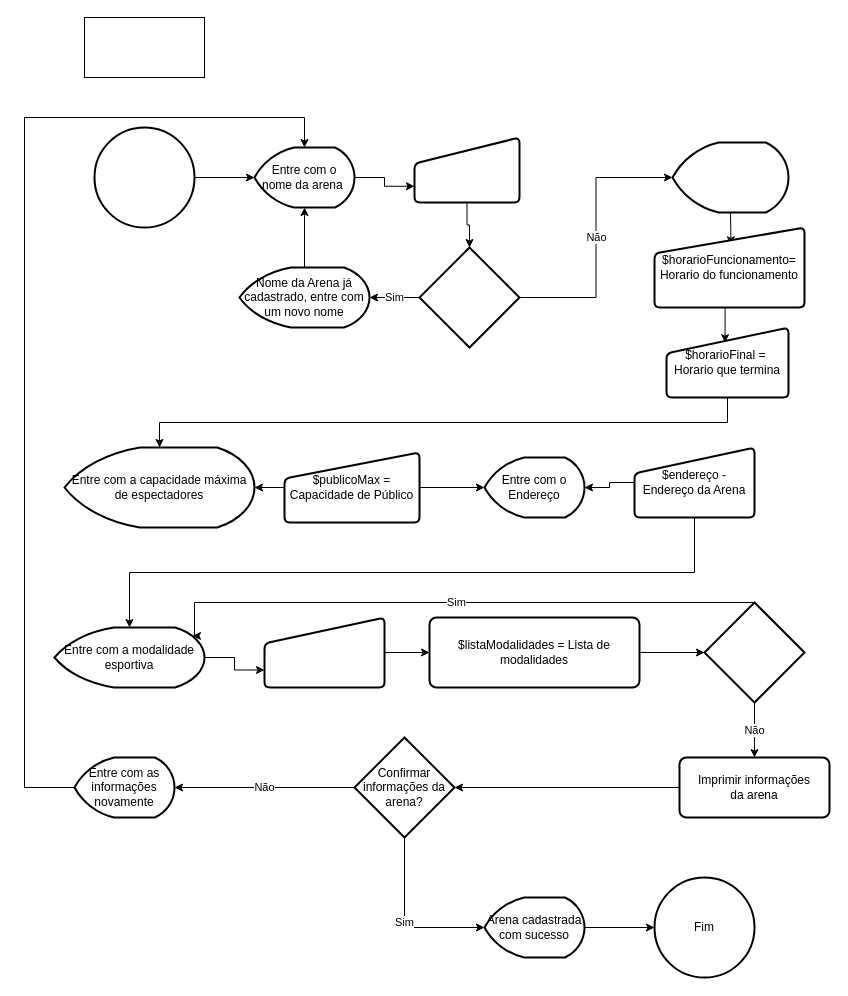
The diagram is 848 pixels wide and 996 high, and some of its shapes have lost their labels. Each missing label, with the box of its shape:
$modalidade = Modalidade Esportiva: (263, 616, 385, 688)
$nomeArena = Nome da Arena: (413, 136, 520, 203)
Adicionar nova modalidade?: (703, 601, 805, 703)
Cadastro Arena: (84, 16, 204, 78)
Entre com o Horário de Funcionamento: (671, 141, 789, 213)
Inicio: (93, 126, 195, 228)
nomeArena já esta em uso?: (418, 246, 520, 348)
